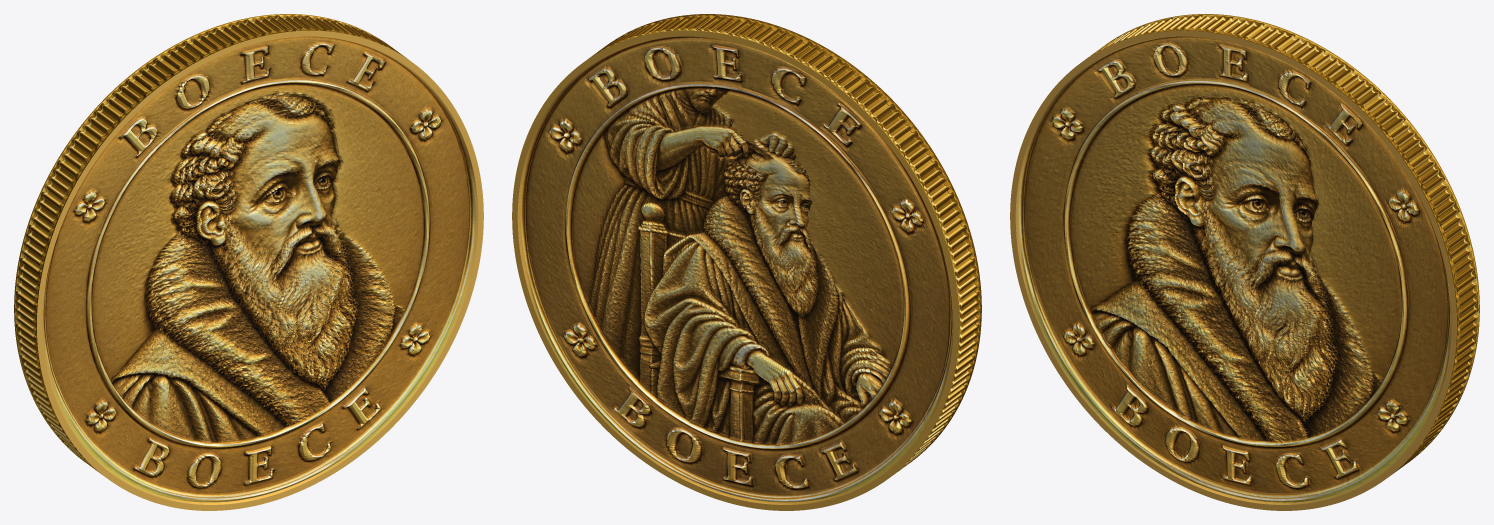
Rendered from coin.glb.
3 views of the same model, side by side, from view 1: azimuth 30°, elevation 25°; view 2: azimuth 150°, elevation 25°; view 3: azimuth 330°, elevation 25° (orthographic).
Parts seen in each view (by area): view 1: front, edge; view 2: back, edge; view 3: front, edge.
Boxes of the visible parts, bbox=[...] form: front: bbox=[37, 30, 483, 510]; edge: bbox=[14, 14, 407, 474]; back: bbox=[512, 30, 958, 510]; edge: bbox=[588, 14, 981, 474]; front: bbox=[1010, 30, 1456, 510]; edge: bbox=[1086, 14, 1479, 474].
Size of the model in its own units: 2 by 2 by 0.1761.
3 materials, 3 textured.
